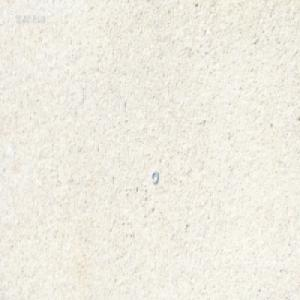Washer: (151, 170, 158, 185)
